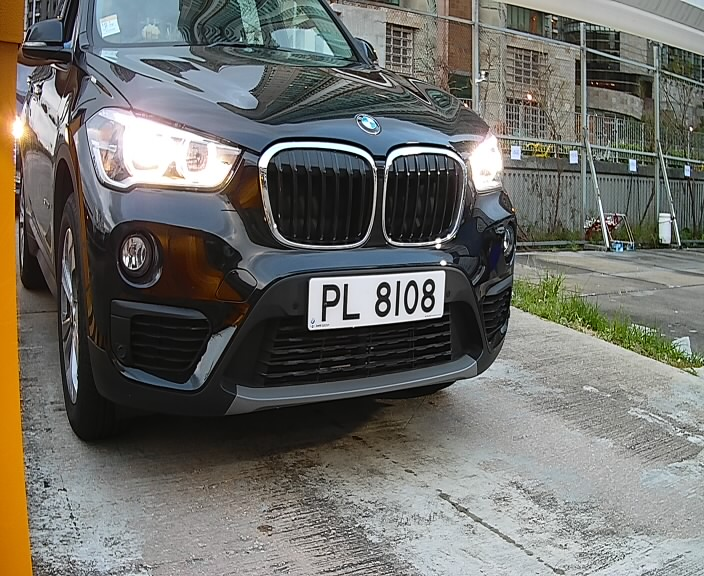Car: (39, 1, 530, 456)
License Plate: (299, 265, 453, 340)
